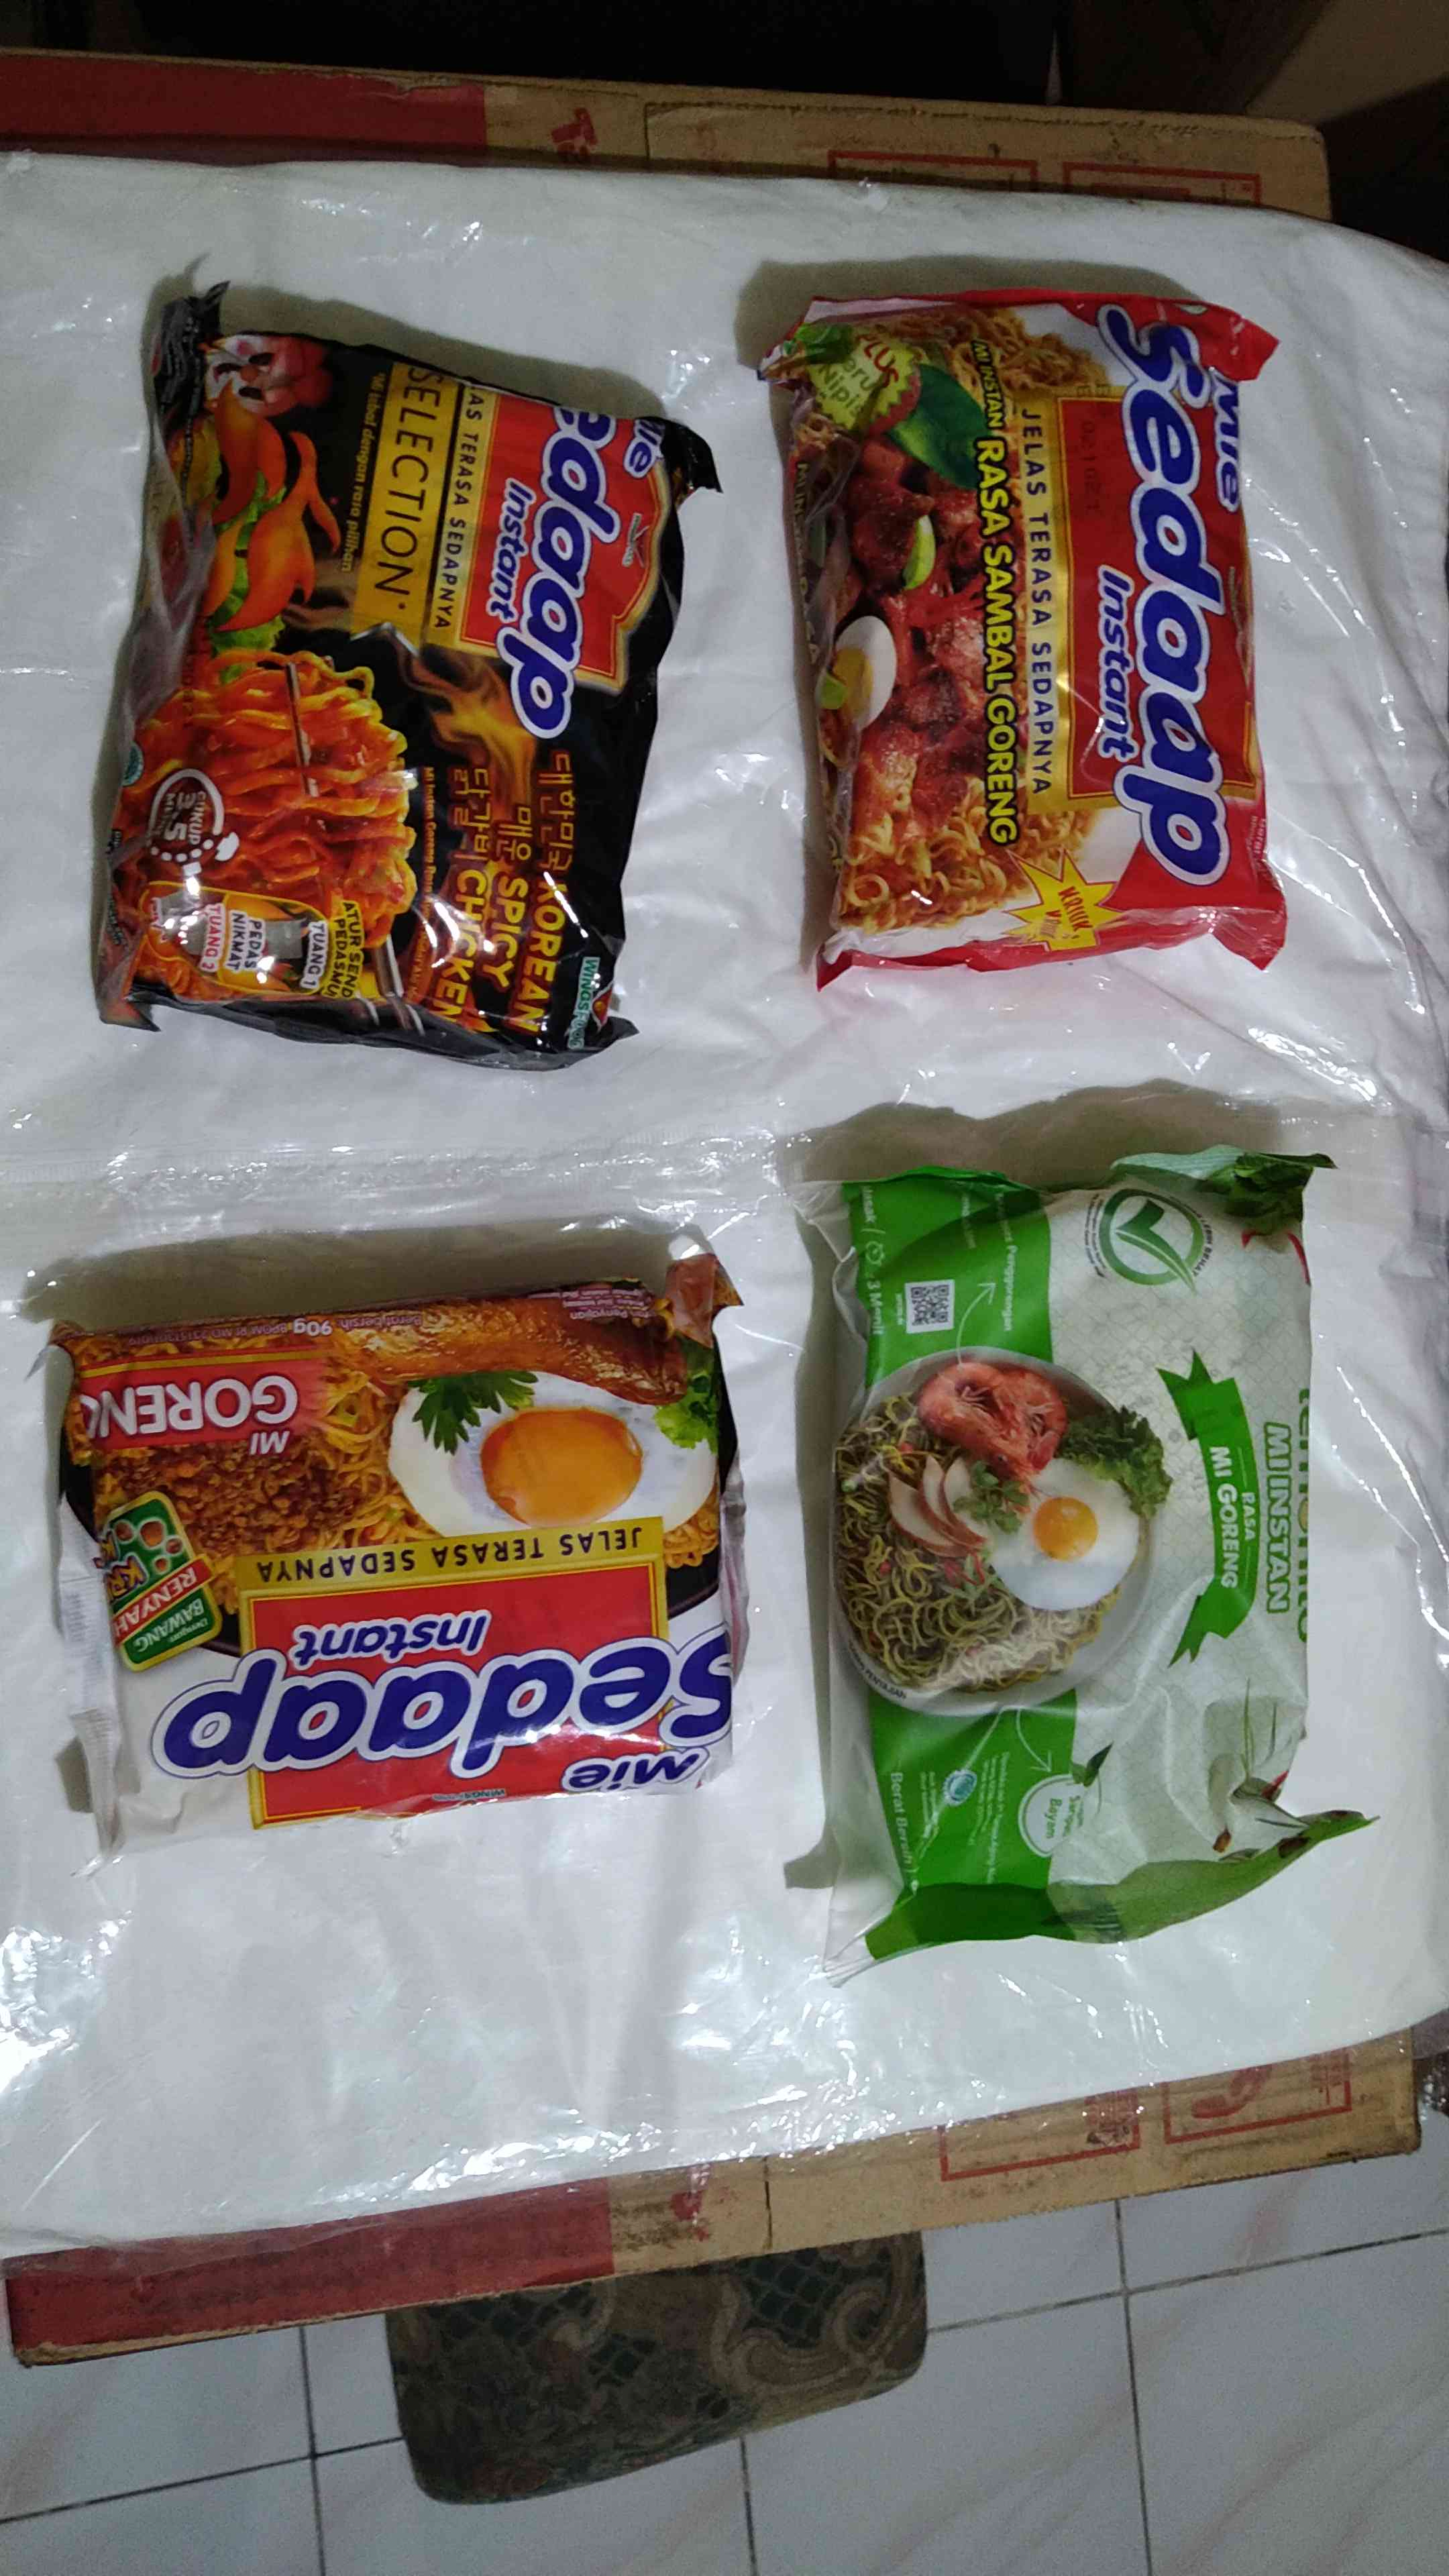lemonilo: (773, 1134, 1373, 1914)
sedaap goreng: (53, 1168, 761, 1863)
sedaap sambal goreng: (777, 251, 1295, 989)
sedaap spicy: (69, 262, 660, 1063)
